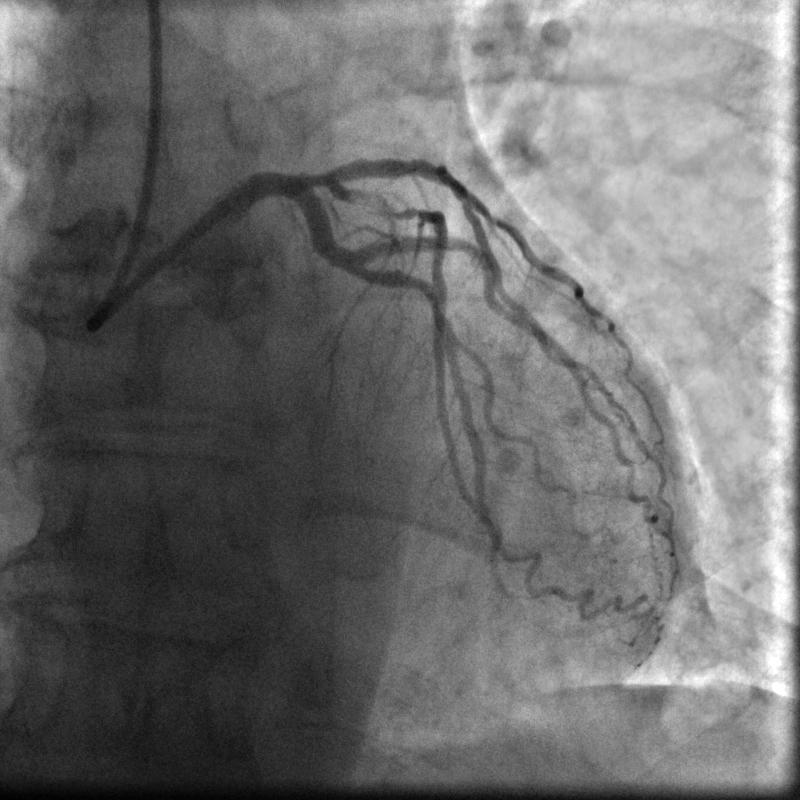Stenosis: (340, 181, 412, 219)
